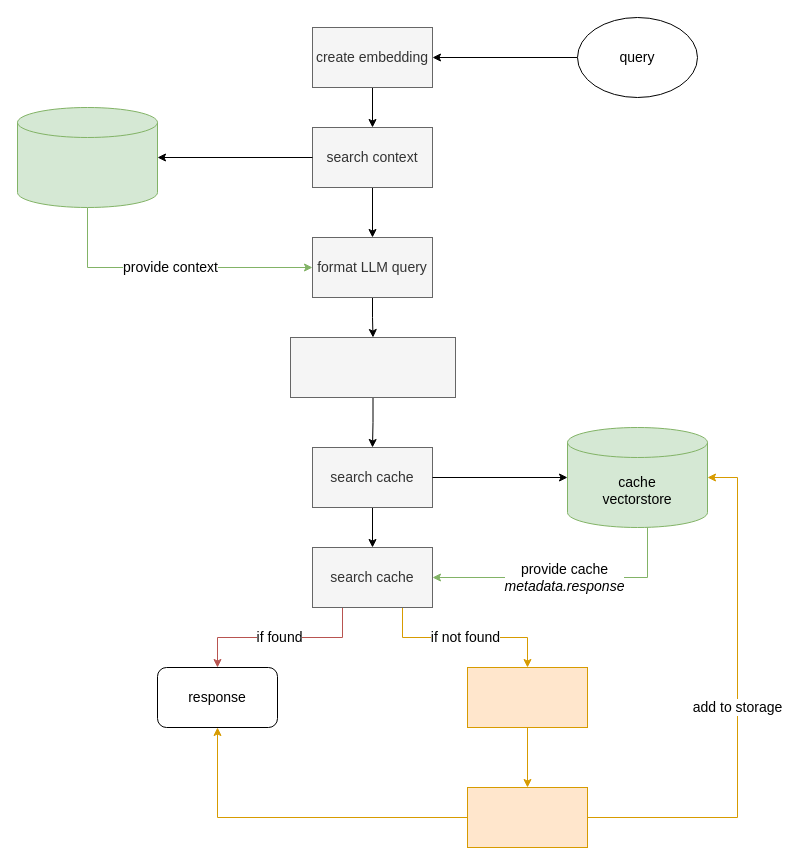
Some shapes in this 800 by 865 pixel diagram are drawn without their labels. Here are the shapes that lost their labels. From the top down, the centre of each, then its label:
At (x=87, y=157): "context vectorstore".
At (x=373, y=367): "create embedding from enriched query".
At (x=527, y=697): "LLM request".
At (x=527, y=817): "LLM response".
